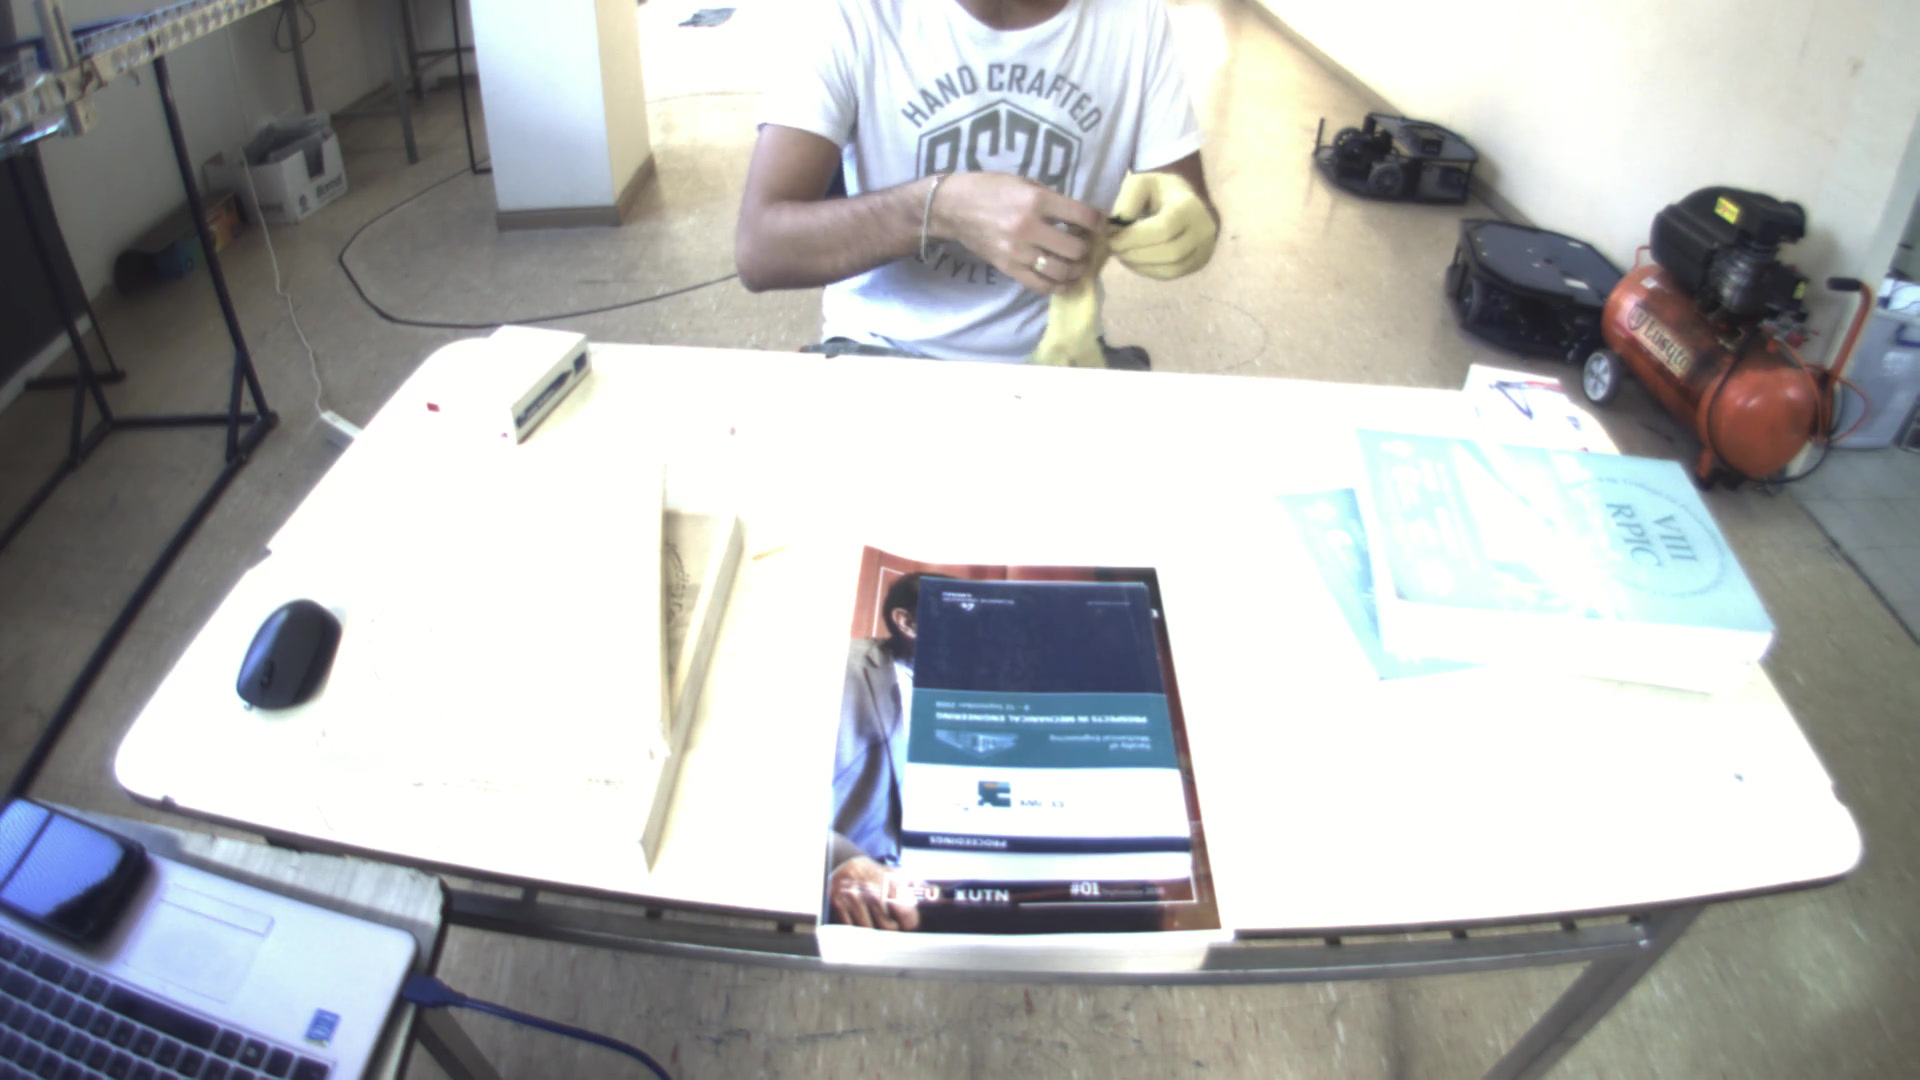hand: (928, 162, 1105, 285), (1101, 158, 1232, 280)
